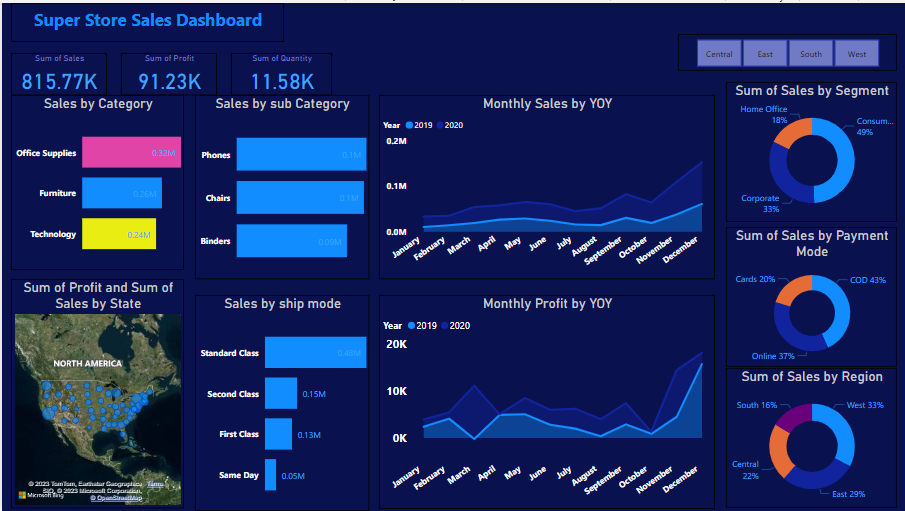

Layout of this report page (visuals, bound fields, positions):
{"tool":"powerbi","page":{"name":"Page 1","canvas":[1280,720],"ordinal":0},"visuals":[{"type":"clusteredBarChart","title":"Sales by Category","fields":{"Category":["SuperStore_Sales_Dataset.Category"],"Y":["Sum(SuperStore_Sales_Dataset.Sales)"]},"box":[12.8,130.4,245.2,248],"z":0},{"type":"clusteredBarChart","title":"Sales by sub Category","fields":{"Category":["SuperStore_Sales_Dataset.Sub-Category"],"Y":["Sum(SuperStore_Sales_Dataset.Sales)"]},"box":[273.5,130.4,246.6,260.8],"z":1000},{"type":"clusteredBarChart","title":"Sales by ship mode","fields":{"Category":["SuperStore_Sales_Dataset.Ship Mode"],"Y":["Sum(SuperStore_Sales_Dataset.Sales)"]},"box":[273.5,413.9,246.6,306.1],"z":2000},{"type":"stackedAreaChart","title":"Monthly Sales by YOY","fields":{"Y":["Sum(SuperStore_Sales_Dataset.Sales)"],"Category":["SuperStore_Sales_Dataset.Order Date.Variation.Date Hierarchy.Month","SuperStore_Sales_Dataset.Order Date.Variation.Date Hierarchy.Day"],"Series":["SuperStore_Sales_Dataset.Order Date.Variation.Date Hierarchy.Year"]},"box":[534.3,130.4,476.2,260.8],"z":3000},{"type":"stackedAreaChart","title":"Monthly Profit by YOY","fields":{"Category":["SuperStore_Sales_Dataset.Order Date.Variation.Date Hierarchy.Month"],"Series":["SuperStore_Sales_Dataset.Order Date.Variation.Date Hierarchy.Year"],"Y":["Sum(SuperStore_Sales_Dataset.Profit)"]},"box":[534.3,413.9,476.2,303.3],"z":4000},{"type":"map","fields":{"Category":["SuperStore_Sales_Dataset.State"],"Size":["Sum(SuperStore_Sales_Dataset.Profit)"]},"box":[12.8,391.2,245.2,324.6],"z":5000},{"type":"donutChart","fields":{"Category":["SuperStore_Sales_Dataset.Segment"],"Y":["Sum(SuperStore_Sales_Dataset.Sales)"]},"box":[1026.1,112,242.4,198.4],"z":6000},{"type":"donutChart","fields":{"Category":["SuperStore_Sales_Dataset.Payment Mode"],"Y":["Sum(SuperStore_Sales_Dataset.Sales)"]},"box":[1026.1,317.5,242.4,198.4],"z":7000},{"type":"donutChart","fields":{"Category":["SuperStore_Sales_Dataset.Region"],"Y":["Sum(SuperStore_Sales_Dataset.Sales)"]},"box":[1026.1,517.3,242.4,198.4],"z":8000},{"type":"slicer","fields":{"Values":["SuperStore_Sales_Dataset.Region"]},"box":[958.1,43.9,310.4,52.4],"z":9000},{"type":"textbox","box":[12.8,0,386.9,55.3],"z":10000},{"type":"card","title":"Sum of Sales","fields":{"Values":["Sum(SuperStore_Sales_Dataset.Sales)"]},"box":[12.8,70.9,136.1,59.5],"z":11000},{"type":"card","title":"Sum of Profit","fields":{"Values":["Sum(SuperStore_Sales_Dataset.Profit)"]},"box":[168.7,70.9,136.1,59.5],"z":12000},{"type":"card","title":"Sum of Quantity","fields":{"Values":["Sum(SuperStore_Sales_Dataset.Quantity)"]},"box":[324.6,70.9,143.1,59.5],"z":13000}]}

Visuals, with their boxes in screenshot pixels (x1, y1, x2, y2), scaled from the page's 1280x720 canvas onto the 905x511 screenshot:
"Sales by Category" clusteredBarChart: locate(9, 93, 182, 269)
"Sales by sub Category" clusteredBarChart: locate(193, 93, 368, 278)
"Sales by ship mode" clusteredBarChart: locate(193, 294, 368, 510)
"Monthly Sales by YOY" stackedAreaChart: locate(378, 93, 714, 278)
"Monthly Profit by YOY" stackedAreaChart: locate(378, 294, 714, 509)
map - SuperStore_Sales_Dataset.State x Sum(SuperStore_Sales_Dataset.Profit): locate(9, 278, 182, 508)
donutChart - SuperStore_Sales_Dataset.Segment x Sum(SuperStore_Sales_Dataset.Sales): locate(725, 79, 897, 220)
donutChart - SuperStore_Sales_Dataset.Payment Mode x Sum(SuperStore_Sales_Dataset.Sales): locate(725, 225, 897, 366)
donutChart - SuperStore_Sales_Dataset.Region x Sum(SuperStore_Sales_Dataset.Sales): locate(725, 367, 897, 508)
slicer - SuperStore_Sales_Dataset.Region: locate(677, 31, 897, 68)
textbox: locate(9, 0, 283, 39)
"Sum of Sales" card: locate(9, 50, 105, 93)
"Sum of Profit" card: locate(119, 50, 216, 93)
"Sum of Quantity" card: locate(230, 50, 331, 93)
